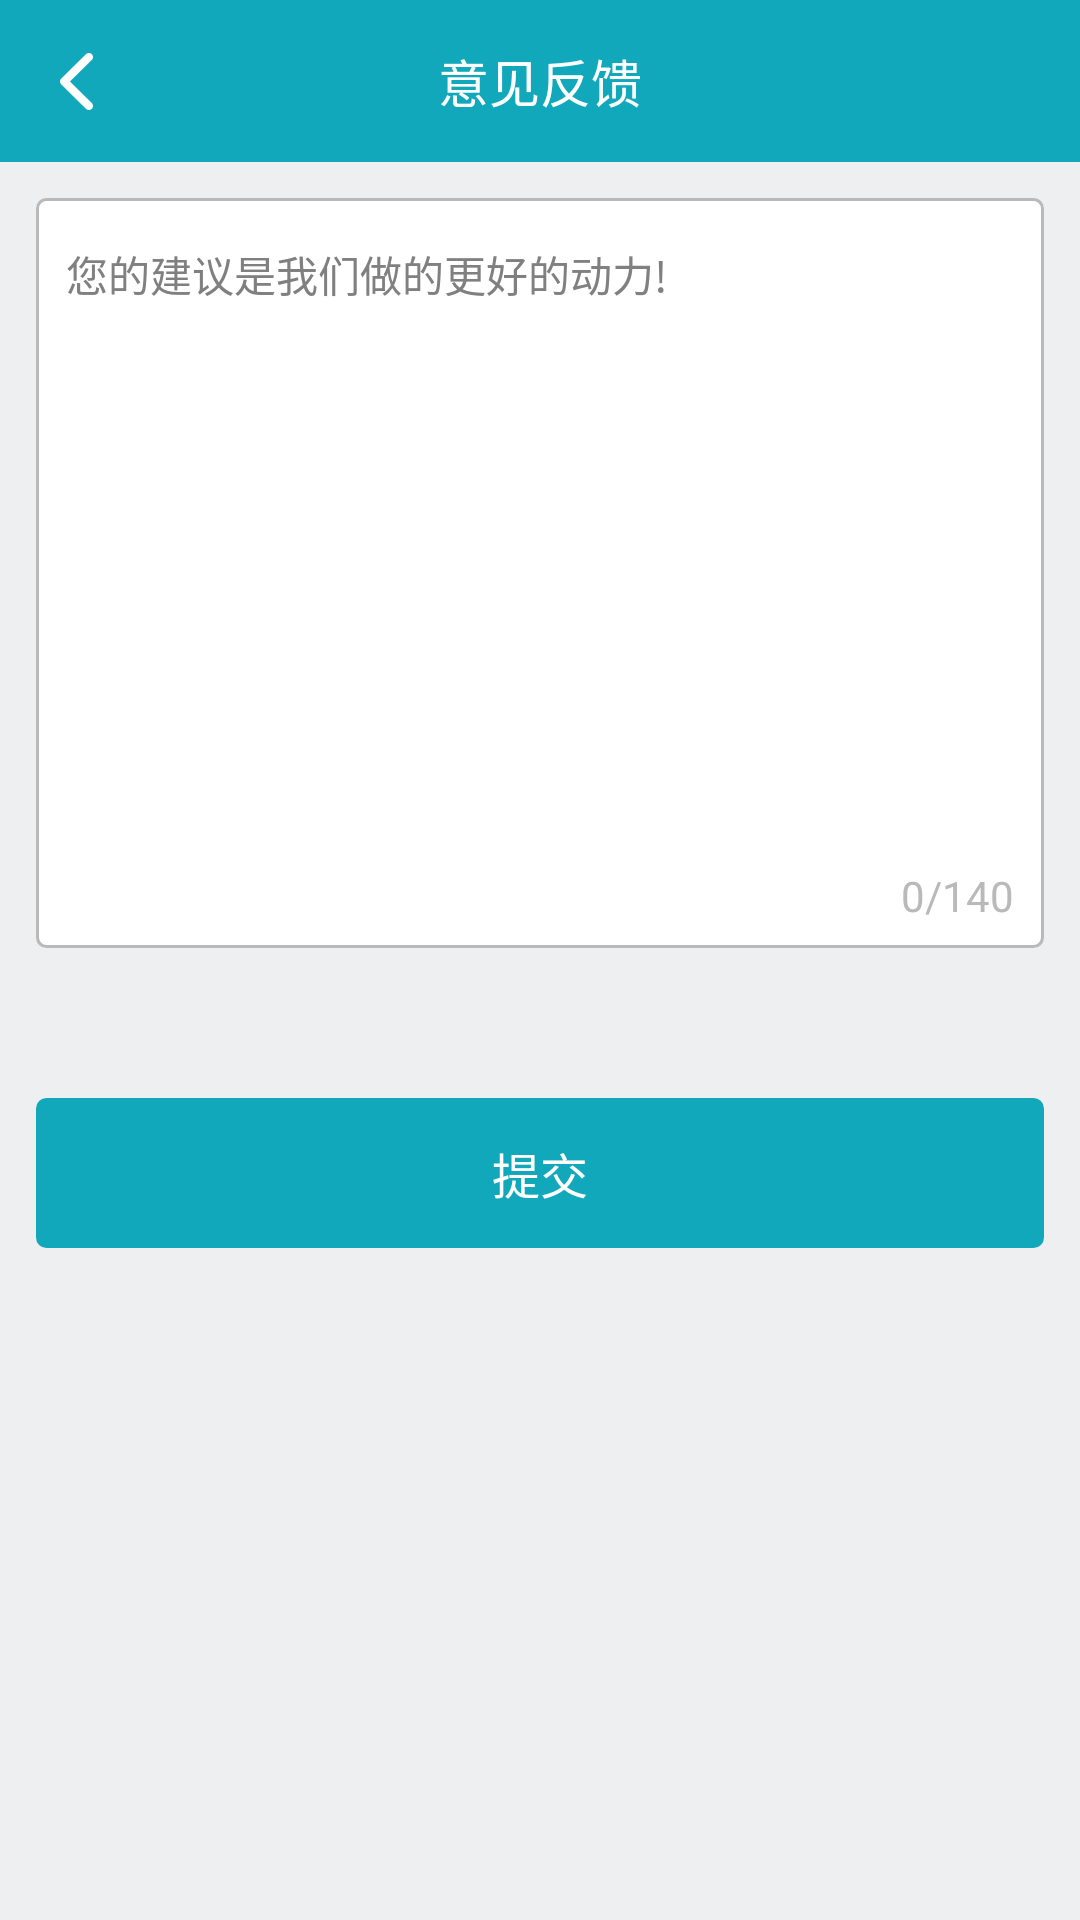

Where icons sit on this 1080px x 1920px app screen, as {"x1": x1, "y1": y1, "x2": x2, "y2": y2}:
back: {"x1": 60, "y1": 53, "x2": 93, "y2": 110}
